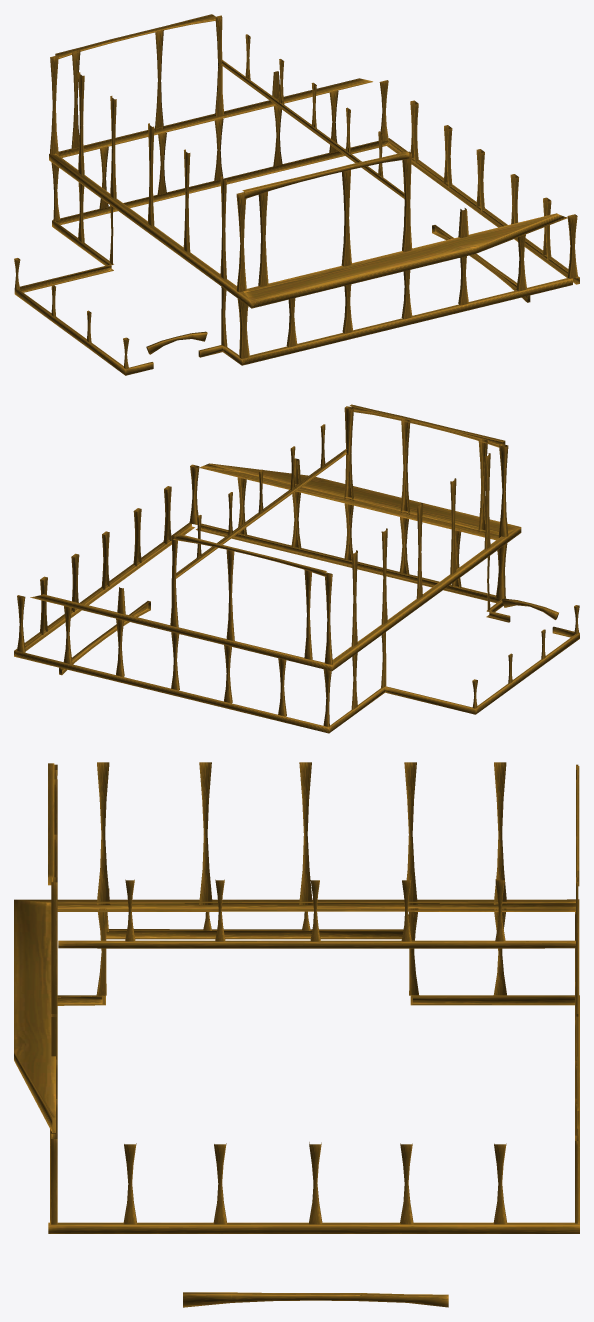
The model's file is HTOWN01_MILLEXTRAFTERS.fbx.
The picture shows the model from 3 angles, top to bottom: view 1: azimuth 30°, elevation 25°; view 2: azimuth 150°, elevation 25°; view 3: azimuth 270°, elevation 25°; orthographic projection. The views are drawn at different scales.
Visible parts, largest first — view 1: HTOWN01_MILLEXTRAFTERS; view 2: HTOWN01_MILLEXTRAFTERS; view 3: HTOWN01_MILLEXTRAFTERS.
Part boxes in pixels (bbox=[...]): HTOWN01_MILLEXTRAFTERS: bbox=[14, 14, 579, 375]; HTOWN01_MILLEXTRAFTERS: bbox=[14, 404, 579, 733]; HTOWN01_MILLEXTRAFTERS: bbox=[14, 762, 579, 1307].
Bounding box in the file's own units: 174850 × 87170 × 141165.
1 material, 1 textured.
